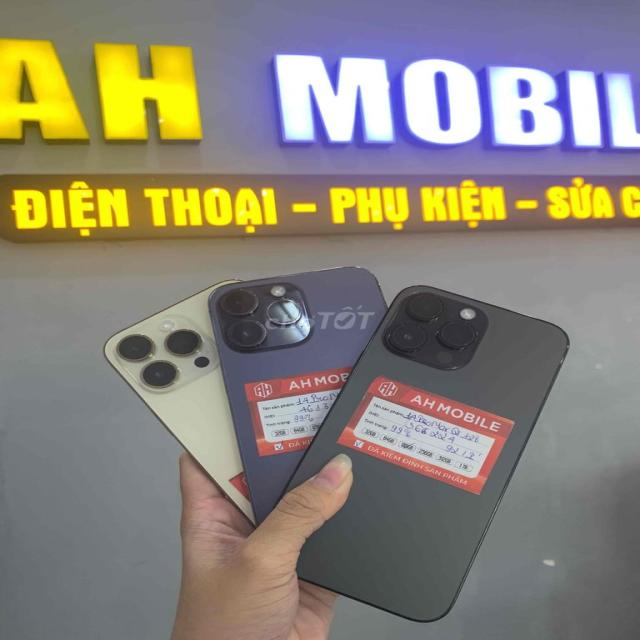gen_14: (287, 286, 568, 621), (0, 333, 380, 567)
